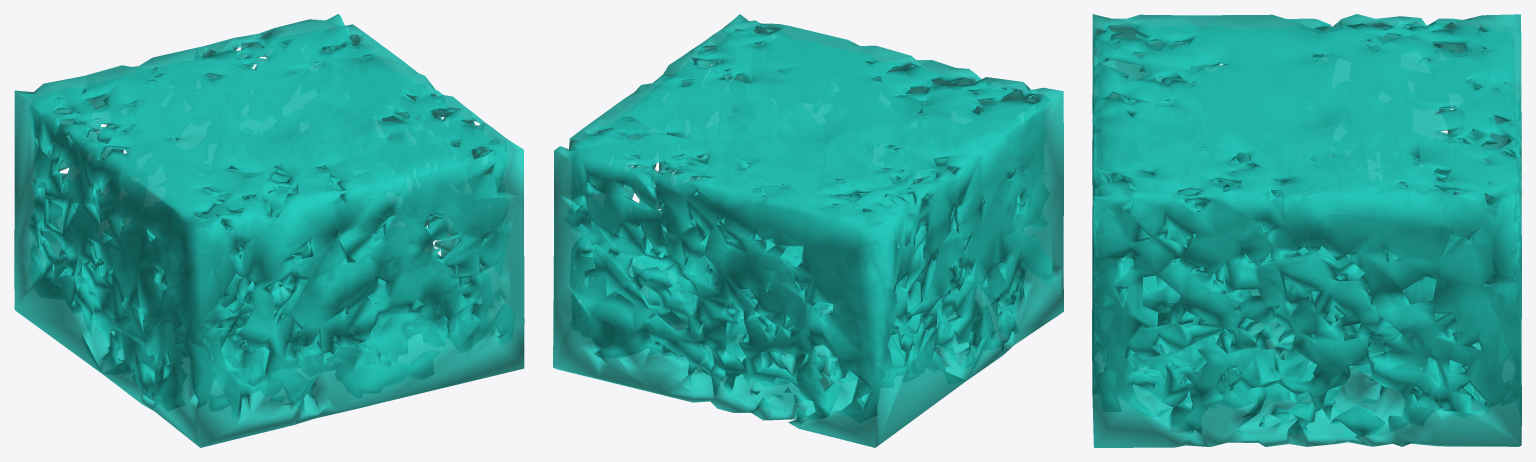
3 views of the same model, side by side, from view 1: azimuth 30°, elevation 25°; view 2: azimuth 150°, elevation 25°; view 3: azimuth 270°, elevation 25° (orthographic). The views are drawn at different scales.
Visible parts, largest first — view 1: Liquid_Domain; view 2: Liquid_Domain; view 3: Liquid_Domain.
Boxes of the visible parts, x1,y1,x2,y2 form: Liquid_Domain: [14, 14, 524, 447]; Liquid_Domain: [553, 14, 1063, 447]; Liquid_Domain: [1092, 14, 1521, 447].
Bounding box in the file's own units: 392 × 254 × 391.
